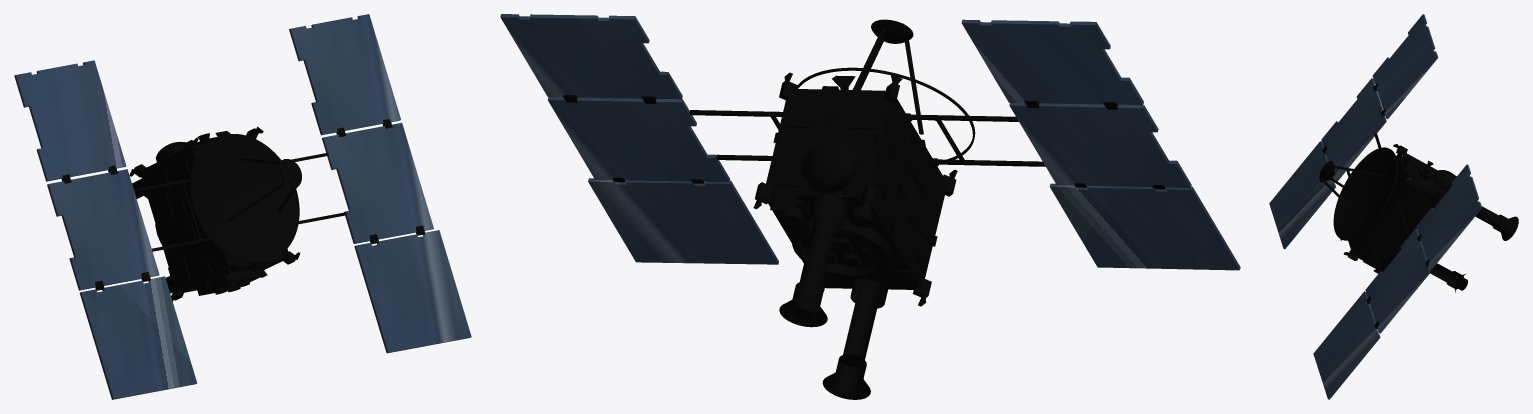
File: satelite.glb
3 views of the same model, side by side, from view 1: azimuth 30°, elevation 25°; view 2: azimuth 150°, elevation 25°; view 3: azimuth 270°, elevation 25° (orthographic). The views are drawn at different scales.
Visible parts, largest first — view 1: PLATO, 01Group_8_2, 01Group_8, 14Skp_Mesh_Front_Side_, 14Skp_Mesh_Front_Side__2, 14Skp_Mesh_Front_Side__2_2, 14Skp_Mesh_Front_Side__1, 02Skp_Mesh_Front_Side_, 01Skp_Mesh_Front_Side_, 13Skp_Mesh_Back_Side_, 08Skp_Mesh_Front_Side_; view 2: 01Group_8, 01Group_8_2, 14Skp_Mesh_Front_Side__2, 14Skp_Mesh_Front_Side_, 14Skp_Mesh_Front_Side__1, 14Skp_Mesh_Front_Side__2_2, 04Skp_Mesh_Back_Side_, 02Skp_Mesh_Front_Side_, 03Skp_Mesh_Front_Side_, 12Skp_Mesh_Front_Side_, 12Skp_Mesh_Back_Side_, 05Skp_Mesh_Front_Side_ (+4 smaller); view 3: PLATO, 01Group_8, 01Group_8_2, 14Skp_Mesh_Front_Side_, 14Skp_Mesh_Front_Side__2, 14Skp_Mesh_Front_Side__1, 14Skp_Mesh_Front_Side__2_2, Skp_Mesh_Front_Side_, 07Skp_Mesh_Back_Side_, 04Skp_Mesh_Back_Side_, 12Skp_Mesh_Front_Side_, 12Skp_Mesh_Back_Side_ (+3 smaller).
Boxes of the visible parts, x1,y1,x2,y2 form: PLATO: [189, 134, 299, 263]; 01Group_8_2: [79, 276, 197, 399]; 01Group_8: [354, 230, 471, 353]; 14Skp_Mesh_Front_Side_: [14, 60, 126, 181]; 14Skp_Mesh_Front_Side__2: [289, 14, 400, 135]; 14Skp_Mesh_Front_Side__2_2: [47, 169, 159, 290]; 14Skp_Mesh_Front_Side__1: [322, 123, 433, 243]; 02Skp_Mesh_Front_Side_: [141, 149, 227, 291]; 01Skp_Mesh_Front_Side_: [182, 258, 286, 295]; 13Skp_Mesh_Back_Side_: [134, 178, 210, 251]; 08Skp_Mesh_Front_Side_: [276, 159, 301, 188]; 01Group_8: [588, 178, 778, 264]; 01Group_8_2: [1049, 183, 1240, 270]; 14Skp_Mesh_Front_Side__2: [500, 14, 682, 99]; 14Skp_Mesh_Front_Side_: [961, 19, 1143, 104]; 14Skp_Mesh_Front_Side__1: [548, 97, 729, 181]; 14Skp_Mesh_Front_Side__2_2: [1009, 103, 1191, 187]; 04Skp_Mesh_Back_Side_: [766, 89, 889, 210]; 02Skp_Mesh_Front_Side_: [870, 99, 945, 286]; 03Skp_Mesh_Front_Side_: [768, 195, 919, 289]; 12Skp_Mesh_Front_Side_: [779, 194, 847, 327]; 12Skp_Mesh_Back_Side_: [822, 277, 889, 399]; 05Skp_Mesh_Front_Side_: [801, 139, 858, 193]; PLATO: [1333, 147, 1397, 240]; 01Group_8: [1313, 291, 1380, 399]; 01Group_8_2: [1269, 141, 1335, 249]; 14Skp_Mesh_Front_Side_: [1372, 14, 1438, 119]; 14Skp_Mesh_Front_Side__2: [1416, 164, 1481, 269]; 14Skp_Mesh_Front_Side__1: [1365, 228, 1430, 333]; 14Skp_Mesh_Front_Side__2_2: [1321, 78, 1386, 181]; Skp_Mesh_Front_Side_: [1354, 186, 1440, 271]; 07Skp_Mesh_Back_Side_: [1348, 152, 1409, 251]; 04Skp_Mesh_Back_Side_: [1401, 152, 1445, 199]; 12Skp_Mesh_Front_Side_: [1475, 206, 1518, 240]; 12Skp_Mesh_Back_Side_: [1427, 259, 1467, 292].
Bounding box in the file's own units: 4.71 × 3.55 × 3.35.
8 materials, 6 textured.
